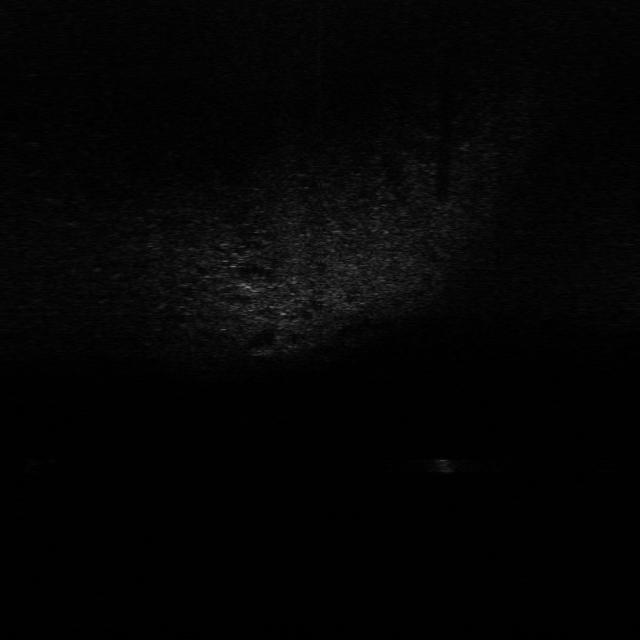cylinder: (429, 456, 458, 476)
